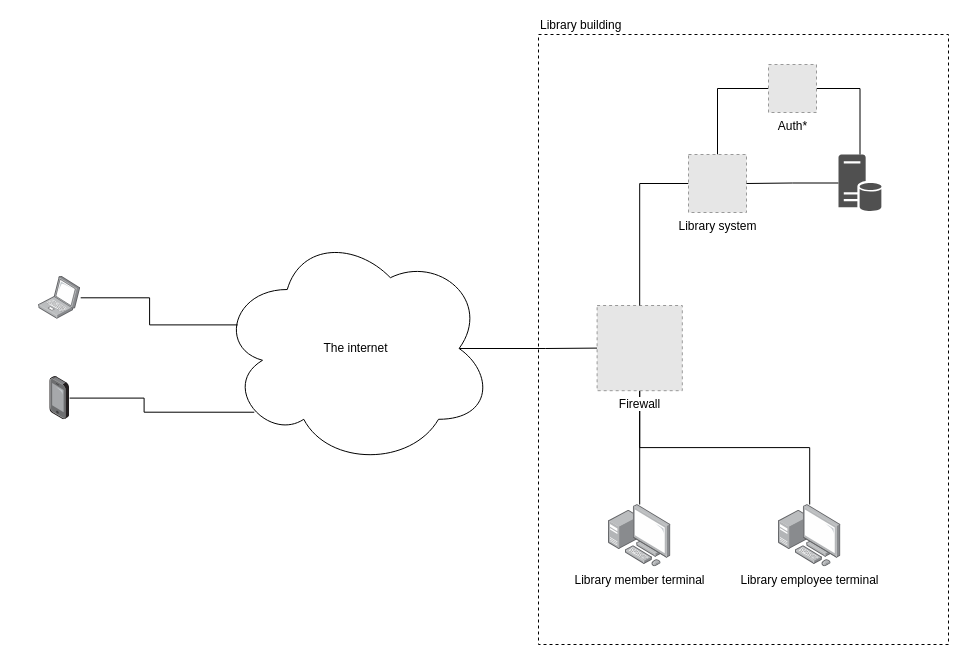
Image size: 967x662. Some labels were removed from this diagram. Grey dashed boxes stand in for pictures. The centre of each missing label's shape, as x and y in pixels:
"Database" goes at (859,182).
"Home computer" goes at (59,297).
"Smartphone" goes at (59,397).
